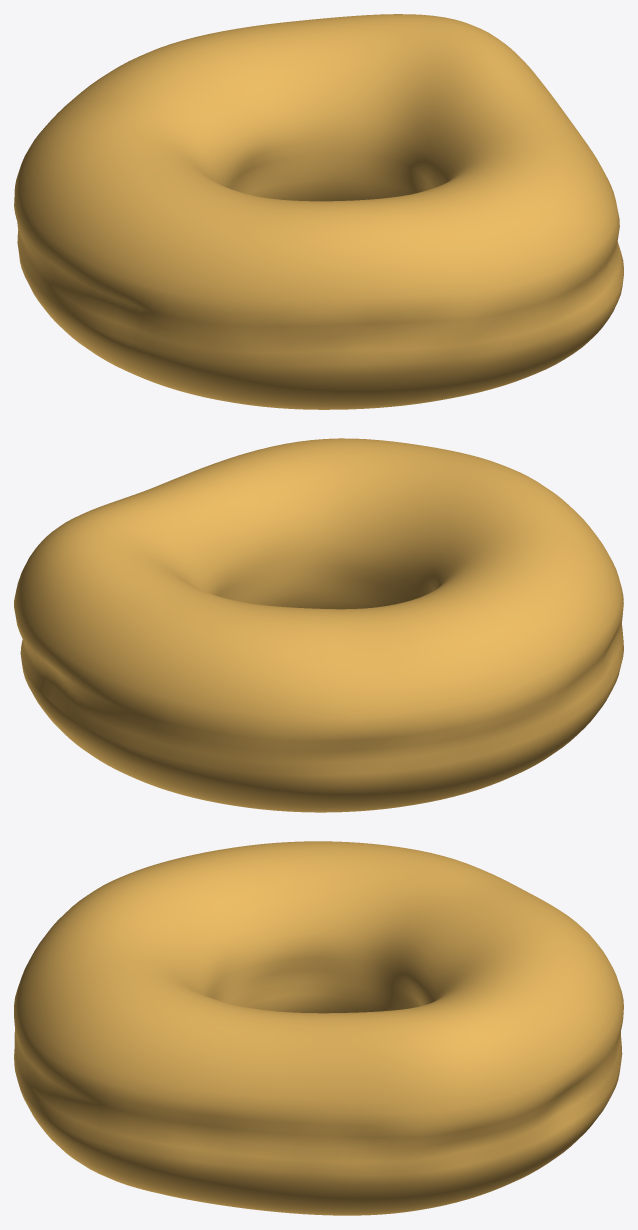
The model's file is donut2.glb.
3 renders of one model, top to bottom at view 1: azimuth 30°, elevation 25°; view 2: azimuth 150°, elevation 25°; view 3: azimuth 270°, elevation 25°, orthographic. The views are drawn at different scales.
Visible parts, largest first — view 1: Donut; view 2: Donut; view 3: Donut.
Part boxes in pixels (left/top/right/bottom): Donut: left=14, top=14, right=623, bottom=409; Donut: left=14, top=438, right=623, bottom=812; Donut: left=14, top=841, right=623, bottom=1215.
Bounding box in the file's own units: 0.1394 × 0.0502 × 0.1443.
